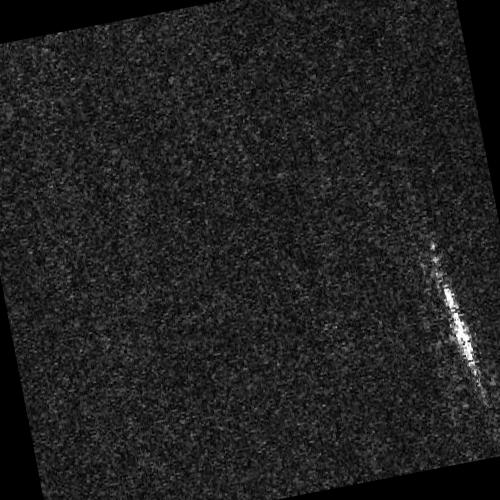ship: (442, 282, 477, 375)
